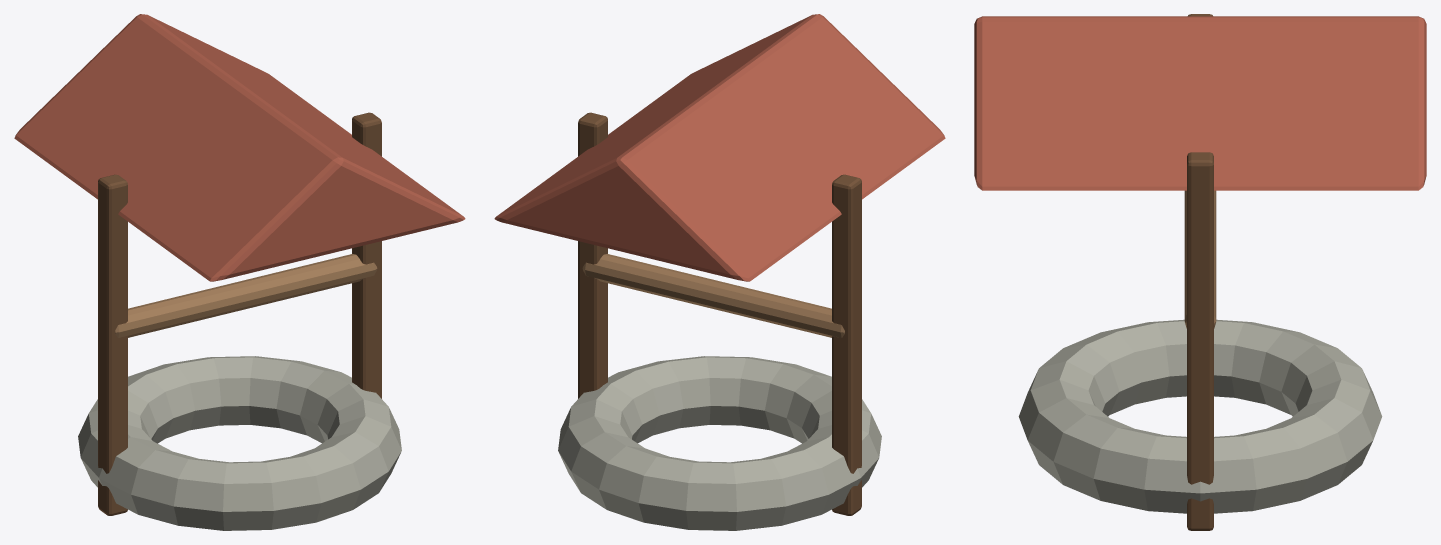
The model's file is prop-well.glb.
The picture shows the model from 3 angles, left to right: view 1: azimuth 30°, elevation 25°; view 2: azimuth 150°, elevation 25°; view 3: azimuth 270°, elevation 25°; orthographic projection. The views are drawn at different scales.
Parts seen in each view (by area): view 1: Clay tiles, Fieldstone, Dark beams, Aged oak; view 2: Clay tiles, Fieldstone, Dark beams, Aged oak; view 3: Clay tiles, Fieldstone, Dark beams, Aged oak.
Part boxes in pixels (x1,y1,x2,y2): Clay tiles: (14, 14, 465, 281); Fieldstone: (78, 356, 401, 530); Dark beams: (98, 112, 381, 515); Aged oak: (115, 254, 377, 337); Clay tiles: (494, 14, 945, 281); Fieldstone: (558, 356, 881, 530); Dark beams: (578, 112, 861, 515); Aged oak: (582, 254, 844, 337); Clay tiles: (974, 16, 1426, 190); Fieldstone: (1018, 319, 1382, 513); Dark beams: (1187, 14, 1213, 530); Aged oak: (1184, 190, 1216, 328).
Bounding box in the file's own units: 1.6 × 2.14 × 1.99.
